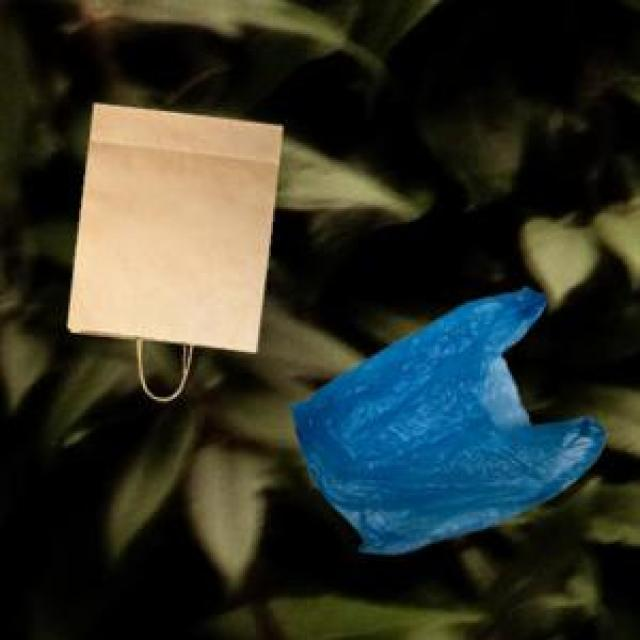paper: (64, 100, 277, 363)
